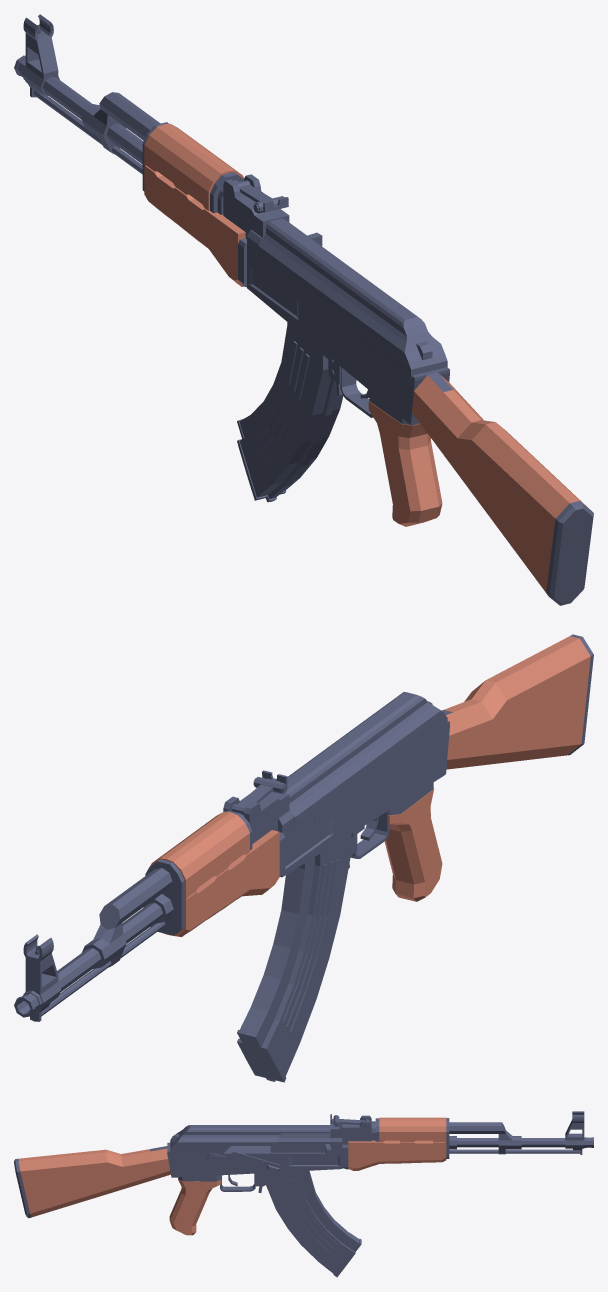
The picture shows the model from 3 angles, top to bottom: view 1: azimuth 30°, elevation 25°; view 2: azimuth 150°, elevation 25°; view 3: azimuth 270°, elevation 25°; orthographic projection. The views are drawn at different scales.
Parts seen in each view (by area): view 1: AK, Magazine; view 2: AK, Magazine; view 3: AK, Magazine, Bolt, Selector.
Boxes of the visible parts, <box> form: AK: <box>14,14,593,605</box>; Magazine: <box>237,322,343,502</box>; AK: <box>14,634,593,1021</box>; Magazine: <box>237,834,351,1082</box>; AK: <box>14,1111,593,1235</box>; Magazine: <box>266,1170,361,1277</box>; Bolt: <box>270,1132,331,1155</box>; Selector: <box>206,1151,280,1172</box>.
Size of the model in its own units: 9.29 by 43.63 by 141.
